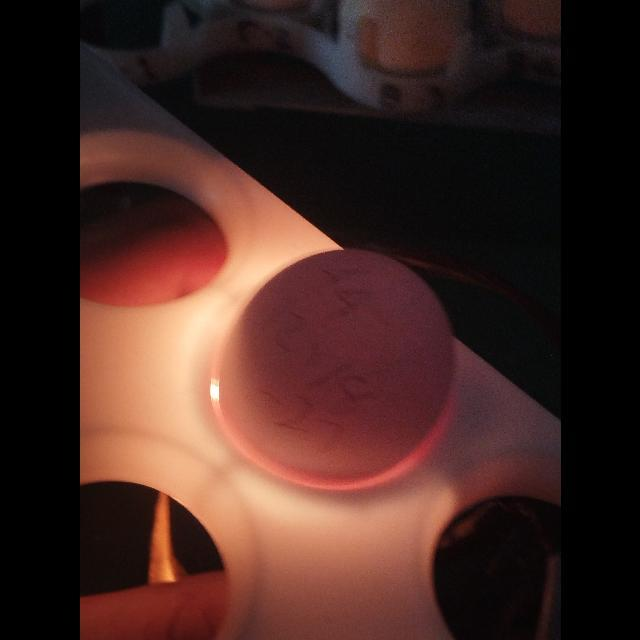Fertile: (216, 246, 457, 487)
